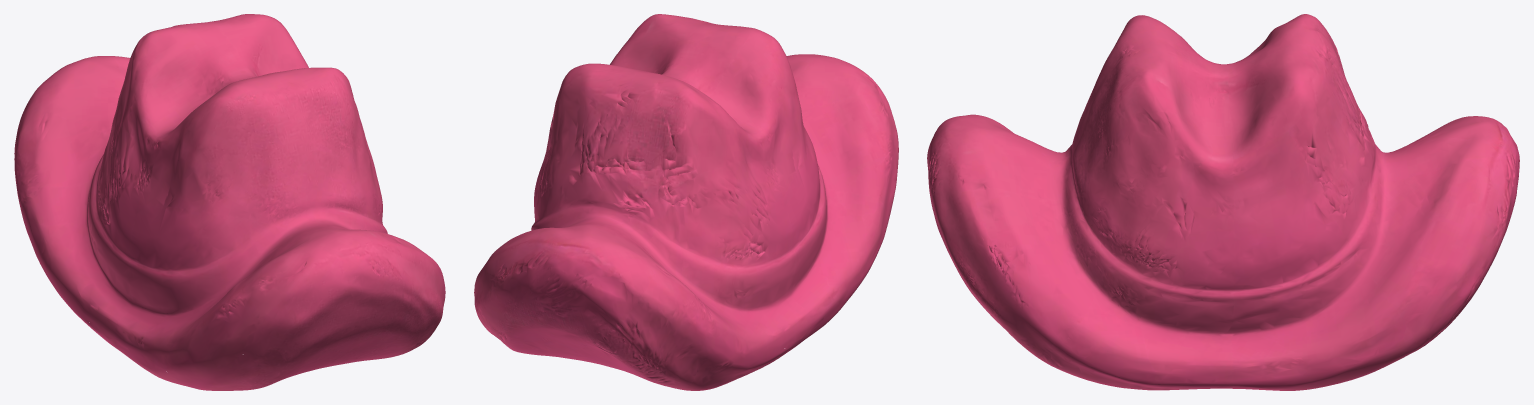
File: jelly_original_cherry.glb
3 renders of one model, left to right at view 1: azimuth 30°, elevation 25°; view 2: azimuth 150°, elevation 25°; view 3: azimuth 270°, elevation 25°, orthographic. The views are drawn at different scales.
Parts seen in each view (by area): view 1: tripo_node_0ab138c6-0c33-4abf-9972-6191ab153e5f; view 2: tripo_node_0ab138c6-0c33-4abf-9972-6191ab153e5f; view 3: tripo_node_0ab138c6-0c33-4abf-9972-6191ab153e5f.
Part boxes in pixels (x1=…): tripo_node_0ab138c6-0c33-4abf-9972-6191ab153e5f: x1=14, y1=14, x2=445, y2=390; tripo_node_0ab138c6-0c33-4abf-9972-6191ab153e5f: x1=474, y1=14, x2=898, y2=390; tripo_node_0ab138c6-0c33-4abf-9972-6191ab153e5f: x1=927, y1=14, x2=1519, y2=390.
Size of the model in its own units: 0.5264 by 0.5568 by 0.9815.
1 material, 1 textured.
